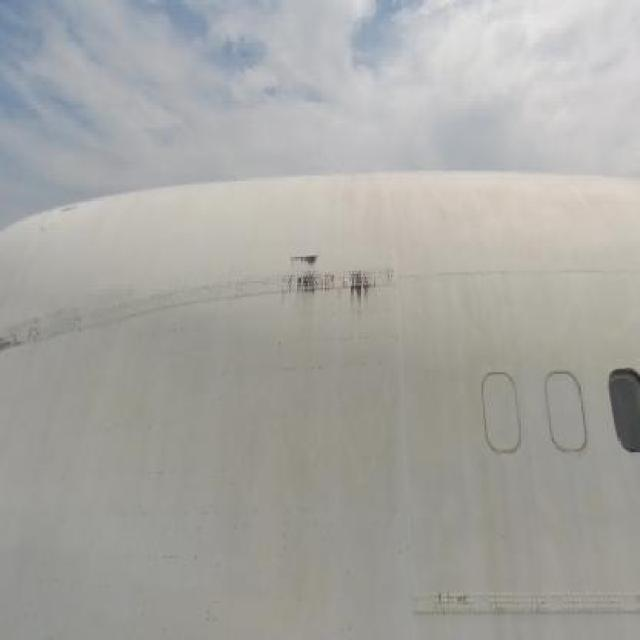Rust: (268, 244, 386, 313)
Scartch: (0, 307, 58, 370)
